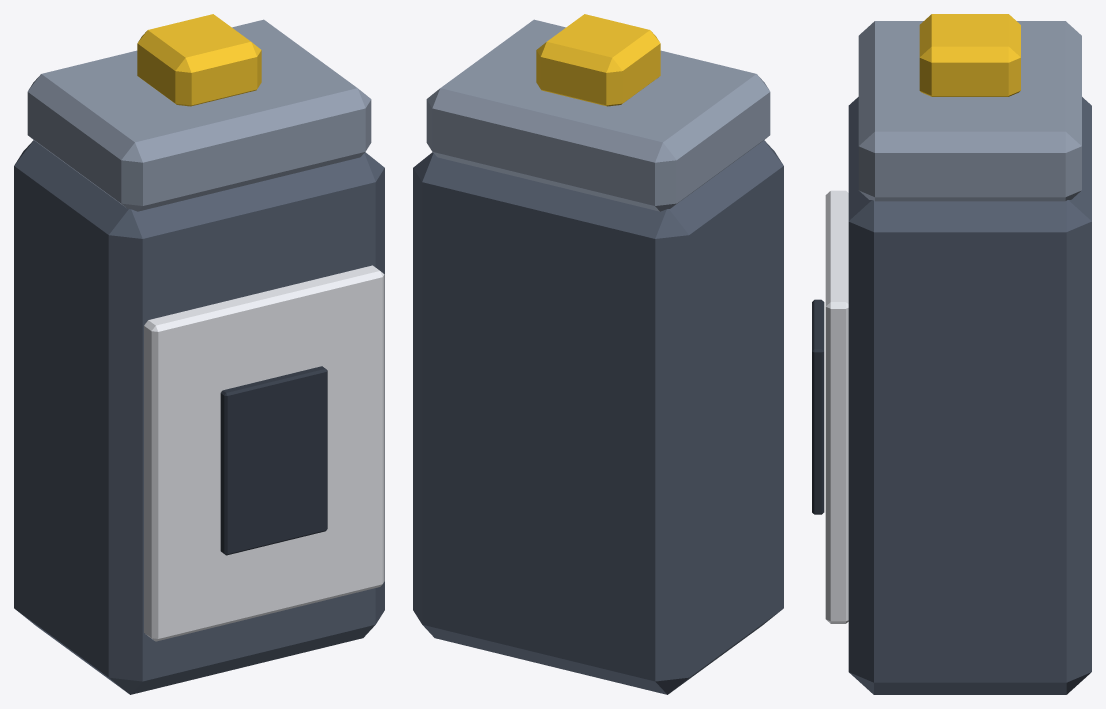
The model's file is Throwable_Smoke_v003.fbx.
The picture shows the model from 3 angles, left to right: view 1: azimuth 30°, elevation 25°; view 2: azimuth 150°, elevation 25°; view 3: azimuth 270°, elevation 25°; orthographic projection.
Visible parts, largest first — view 1: Throwable_Smoke__RECEIVER_MESH; view 2: Throwable_Smoke__RECEIVER_MESH; view 3: Throwable_Smoke__RECEIVER_MESH.
Part boxes in pixels (x1,y1,x2,y2): Throwable_Smoke__RECEIVER_MESH: (14, 14, 384, 694); Throwable_Smoke__RECEIVER_MESH: (413, 14, 783, 694); Throwable_Smoke__RECEIVER_MESH: (812, 14, 1091, 694).
Size of the model in its own units: 0.32 by 0.66 by 0.276.
